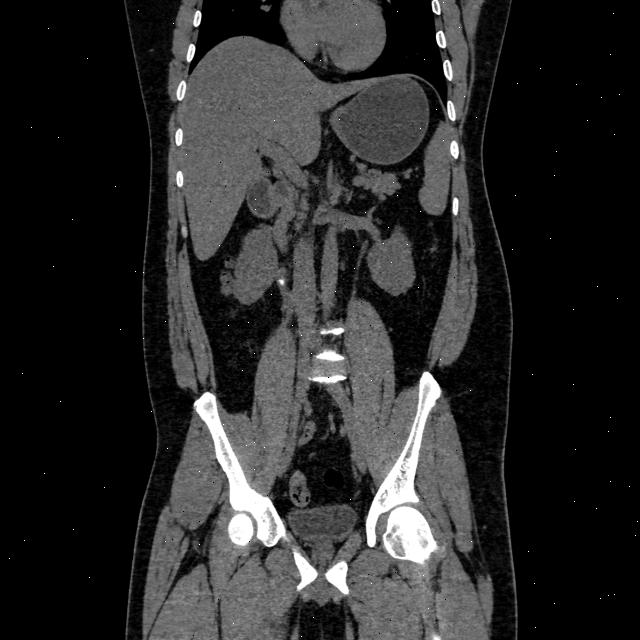kidneystone: (276, 278, 286, 286)
